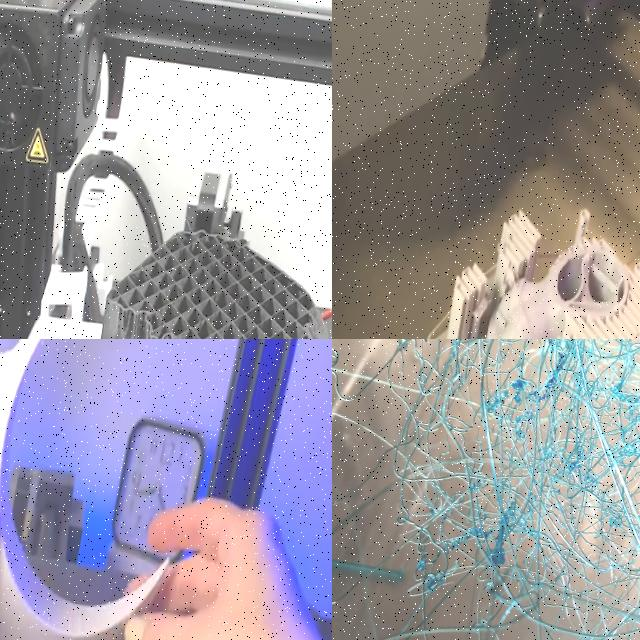spaghetti: (332, 339, 640, 640)
